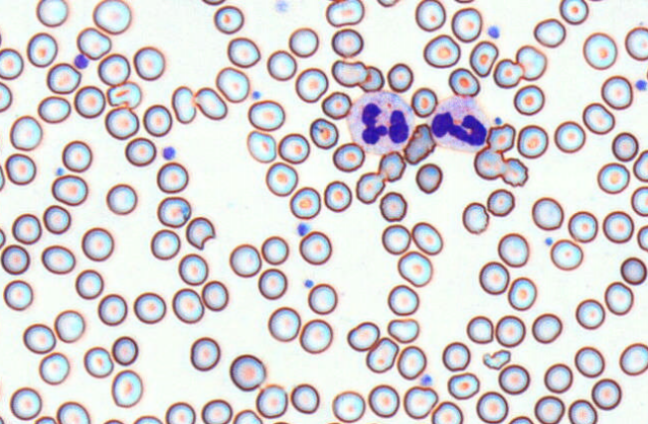GRAN: (348, 89, 414, 154), (429, 93, 493, 152)
PLT: (295, 222, 312, 238), (161, 145, 177, 161), (73, 55, 90, 69), (486, 24, 501, 38), (635, 76, 648, 92), (248, 90, 262, 102), (303, 277, 314, 289), (421, 373, 431, 386), (544, 236, 553, 245)
RBC: (229, 353, 265, 391), (582, 31, 617, 70), (92, 0, 131, 34), (397, 250, 432, 287), (423, 34, 460, 68), (215, 66, 249, 103), (365, 336, 398, 373), (111, 369, 143, 407), (76, 26, 111, 60), (403, 385, 438, 419), (9, 114, 42, 150), (247, 99, 284, 131), (265, 161, 298, 196), (295, 67, 328, 102), (104, 106, 139, 139), (299, 318, 332, 353), (267, 306, 300, 341), (81, 226, 114, 261), (255, 383, 288, 418), (515, 44, 547, 80), (172, 287, 204, 323), (51, 174, 88, 205), (194, 86, 227, 120), (9, 386, 42, 420), (97, 52, 130, 86), (497, 232, 529, 267), (46, 62, 81, 94), (299, 230, 331, 265), (133, 45, 165, 80), (26, 31, 57, 67), (473, 146, 505, 180), (226, 36, 260, 68), (229, 243, 261, 277), (549, 238, 583, 270), (516, 124, 548, 158), (531, 196, 563, 230), (411, 221, 443, 255), (601, 75, 633, 109), (331, 390, 365, 422), (451, 7, 482, 42), (156, 196, 191, 227), (189, 336, 220, 371), (289, 186, 321, 219), (582, 102, 615, 134), (597, 162, 630, 194), (4, 152, 36, 185), (553, 120, 585, 153), (133, 291, 166, 323), (602, 210, 634, 243), (476, 390, 508, 423), (73, 85, 105, 118), (367, 384, 399, 417), (478, 260, 509, 294), (325, 0, 364, 27), (396, 345, 426, 380), (278, 132, 310, 164), (156, 161, 188, 193), (105, 183, 137, 215), (533, 17, 566, 48), (332, 141, 365, 172), (38, 351, 69, 384), (54, 309, 85, 342), (61, 139, 92, 172), (22, 323, 56, 353), (604, 281, 634, 315), (41, 244, 75, 274), (414, 0, 446, 31), (266, 49, 297, 81), (387, 284, 419, 315), (355, 171, 385, 204), (246, 130, 276, 163), (346, 321, 379, 351), (142, 103, 172, 136), (495, 314, 525, 347), (507, 276, 536, 310), (513, 84, 544, 115), (288, 26, 319, 57), (498, 363, 529, 394), (531, 312, 562, 343), (574, 346, 605, 377), (448, 67, 480, 97), (331, 27, 363, 57), (150, 228, 180, 260), (178, 253, 208, 285), (83, 346, 113, 378), (124, 136, 156, 166), (568, 210, 598, 242), (97, 293, 127, 325), (591, 378, 621, 410), (307, 282, 337, 314), (37, 95, 71, 123), (171, 85, 196, 123), (3, 279, 33, 310), (213, 4, 244, 34), (257, 268, 287, 299), (381, 223, 411, 254), (543, 362, 573, 393), (575, 298, 605, 329), (11, 213, 41, 244), (323, 180, 352, 212), (309, 117, 338, 149), (461, 201, 489, 234), (619, 342, 647, 375), (493, 58, 523, 88), (290, 383, 319, 414), (378, 150, 406, 182), (447, 371, 479, 399), (35, 0, 68, 27), (260, 235, 289, 265), (0, 244, 29, 274), (441, 341, 470, 371), (415, 162, 442, 194), (321, 91, 351, 119), (379, 191, 407, 221), (534, 395, 564, 423), (75, 269, 103, 299), (42, 204, 70, 234), (410, 86, 437, 117), (201, 280, 228, 311), (387, 317, 419, 343), (486, 188, 515, 216), (501, 157, 528, 187), (386, 62, 413, 92), (111, 335, 138, 365), (611, 131, 638, 161), (624, 26, 647, 61), (200, 398, 232, 423), (466, 315, 493, 344), (620, 256, 646, 285), (56, 401, 90, 423), (431, 400, 463, 423), (0, 47, 23, 79), (559, 0, 588, 25), (358, 65, 384, 92), (568, 399, 597, 423), (165, 401, 195, 423), (631, 185, 647, 216), (632, 149, 647, 182), (232, 408, 262, 423), (0, 81, 12, 112), (636, 224, 647, 251), (132, 415, 162, 423), (508, 415, 533, 423), (34, 415, 56, 423), (376, 0, 399, 7), (0, 226, 6, 248), (0, 164, 5, 190), (201, 0, 225, 5), (0, 125, 4, 153), (102, 418, 124, 423), (454, 0, 475, 4), (271, 420, 290, 424)
Schistocyte: (403, 122, 437, 165), (469, 39, 500, 76), (185, 216, 216, 251), (487, 122, 517, 155), (107, 81, 142, 109), (331, 60, 367, 86), (481, 349, 512, 368)
